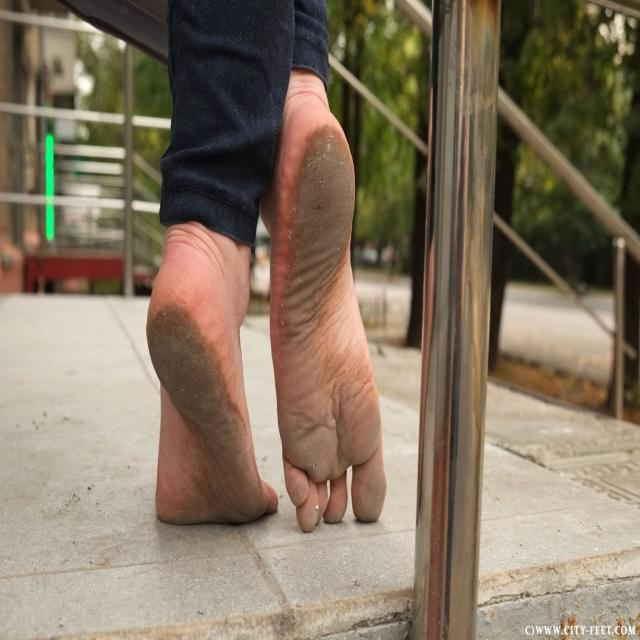Barefoots: (270, 95, 388, 532), (146, 258, 278, 524)
